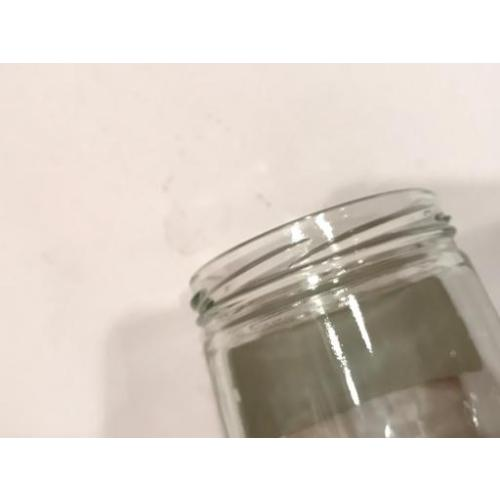glass: (192, 188, 499, 436)
